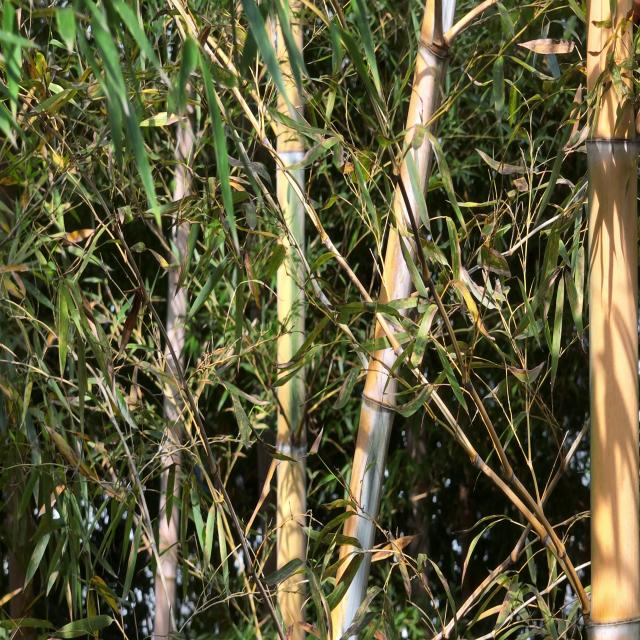Bamboo-shoots: (588, 0, 640, 640)
